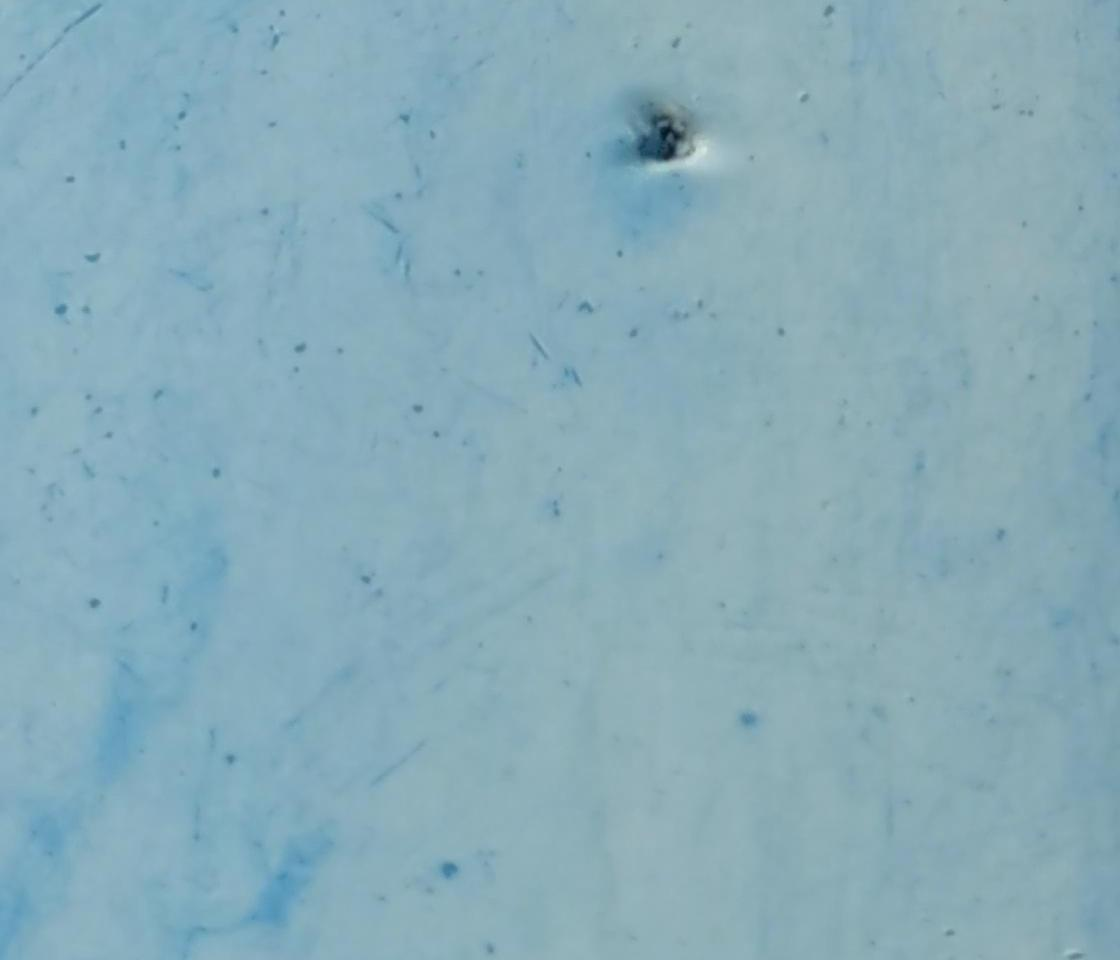scratch: (14, 7, 108, 92), (525, 329, 553, 365)
